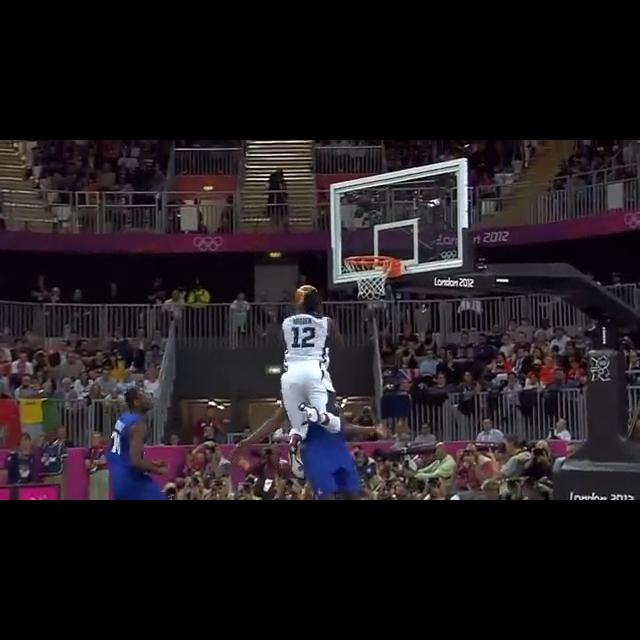basketball: (294, 282, 318, 310)
hoop: (344, 255, 395, 301)
